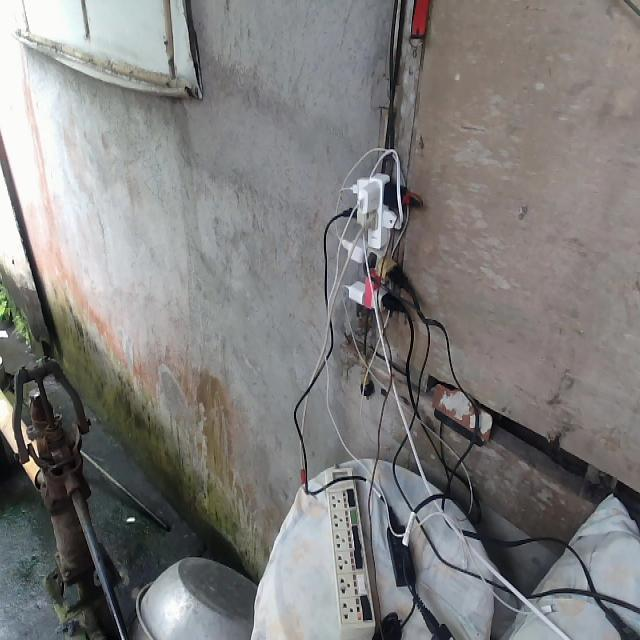-: (337, 169, 416, 312)
